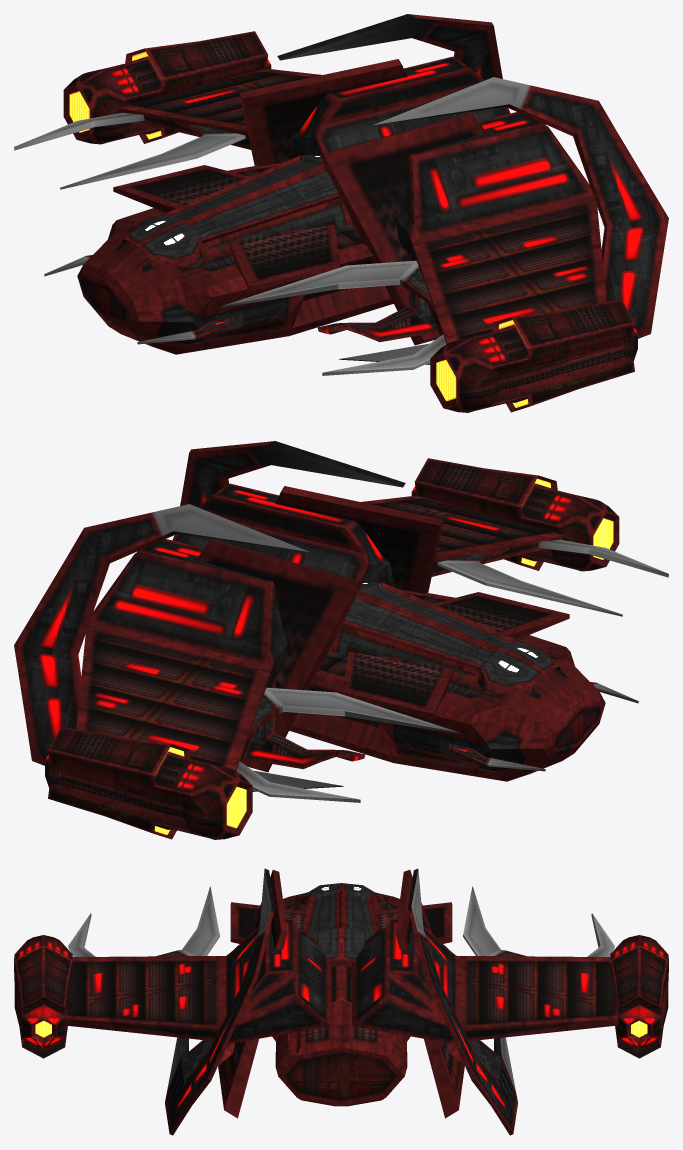
The model's file is pirateLightCruiser.FBX.
3 renders of one model, top to bottom at view 1: azimuth 30°, elevation 25°; view 2: azimuth 150°, elevation 25°; view 3: azimuth 270°, elevation 25°, orthographic. The views are drawn at different scales.
Visible parts, largest first — view 1: Pirate_LightCruiser; view 2: Pirate_LightCruiser; view 3: Pirate_LightCruiser.
Part boxes in pixels (left/top/right/bottom): Pirate_LightCruiser: left=14, top=14, right=668, bottom=412; Pirate_LightCruiser: left=14, top=441, right=668, bottom=839; Pirate_LightCruiser: left=14, top=868, right=668, bottom=1135.
Bounding box in the file's own units: 27.31 × 12.98 × 38.46.
1 material, 1 textured.
